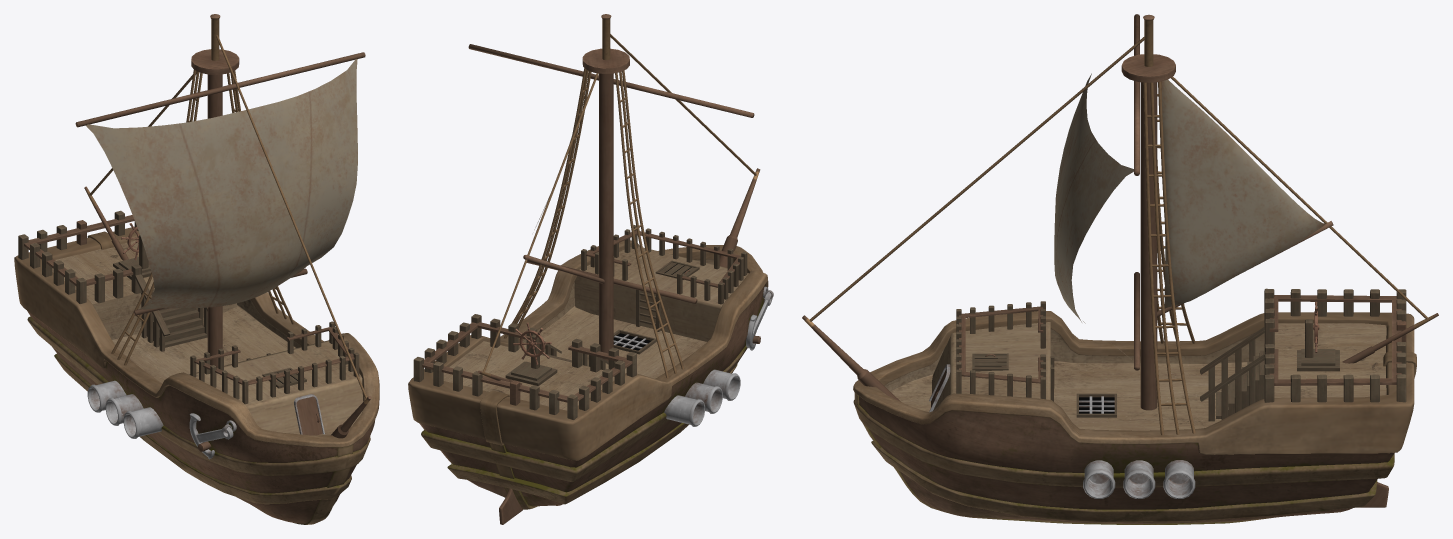
The model's file is 1kMesh.gltf.
3 views of the same model, side by side, from view 1: azimuth 30°, elevation 25°; view 2: azimuth 150°, elevation 25°; view 3: azimuth 270°, elevation 25° (orthographic). The views are drawn at different scales.
Visible parts, largest first — view 1: Cube.029; view 2: Cube.029; view 3: Cube.029.
Boxes of the visible parts, x1,y1,x2,y2 form: Cube.029: (14,14,379,524); Cube.029: (408,14,773,524); Cube.029: (802,14,1438,524).
Size of the model in its own units: 3.81 by 5.77 by 6.55.
Materials: 1 (1 with a texture image).
